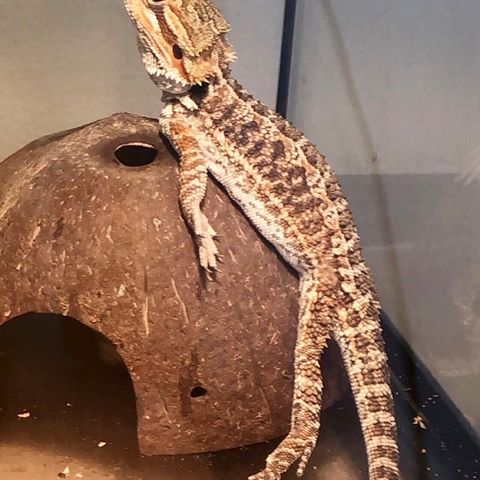bearded: (120, 1, 399, 480)
